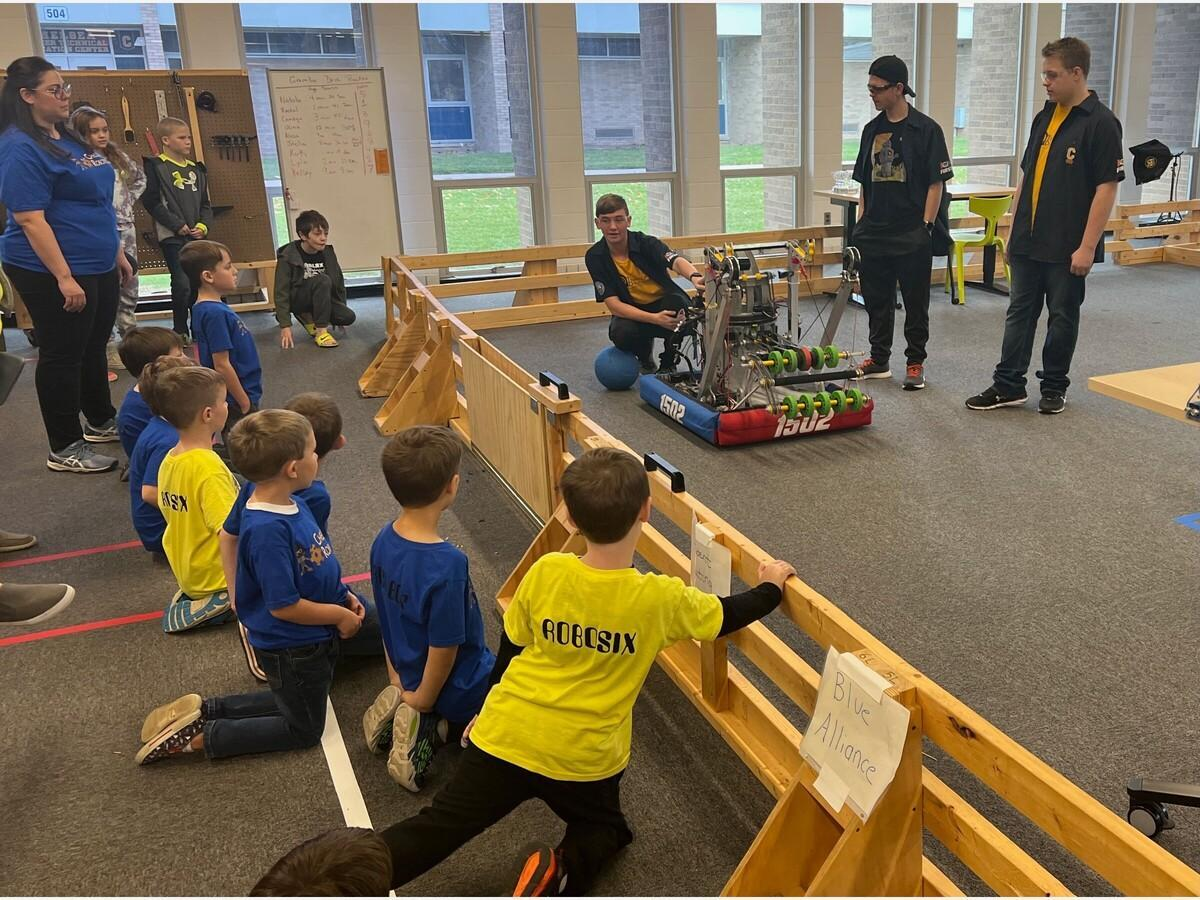robot: (636, 231, 903, 455)
